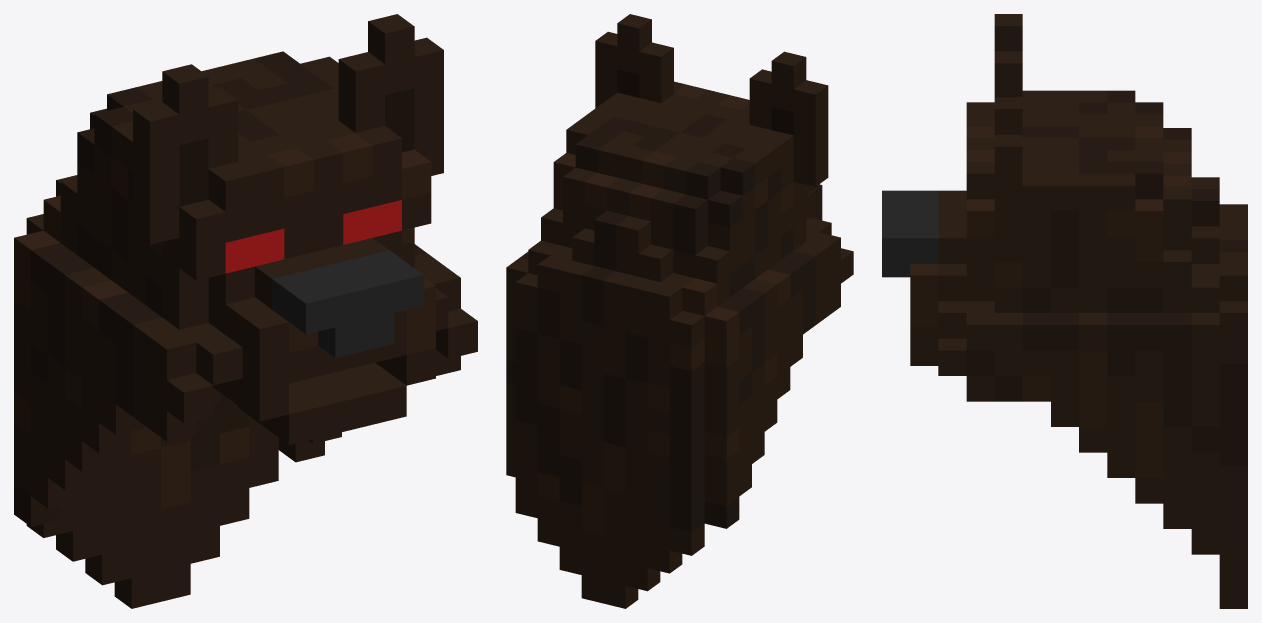
Rendered from EnemySkeleton3-2.obj.
3 renders of one model, left to right at view 1: azimuth 30°, elevation 25°; view 2: azimuth 150°, elevation 25°; view 3: azimuth 270°, elevation 25°, orthographic. The views are drawn at different scales.
Bounding box in the file's own units: 1 × 2.1 × 1.3.
Materials: 1 (1 with a texture image).
